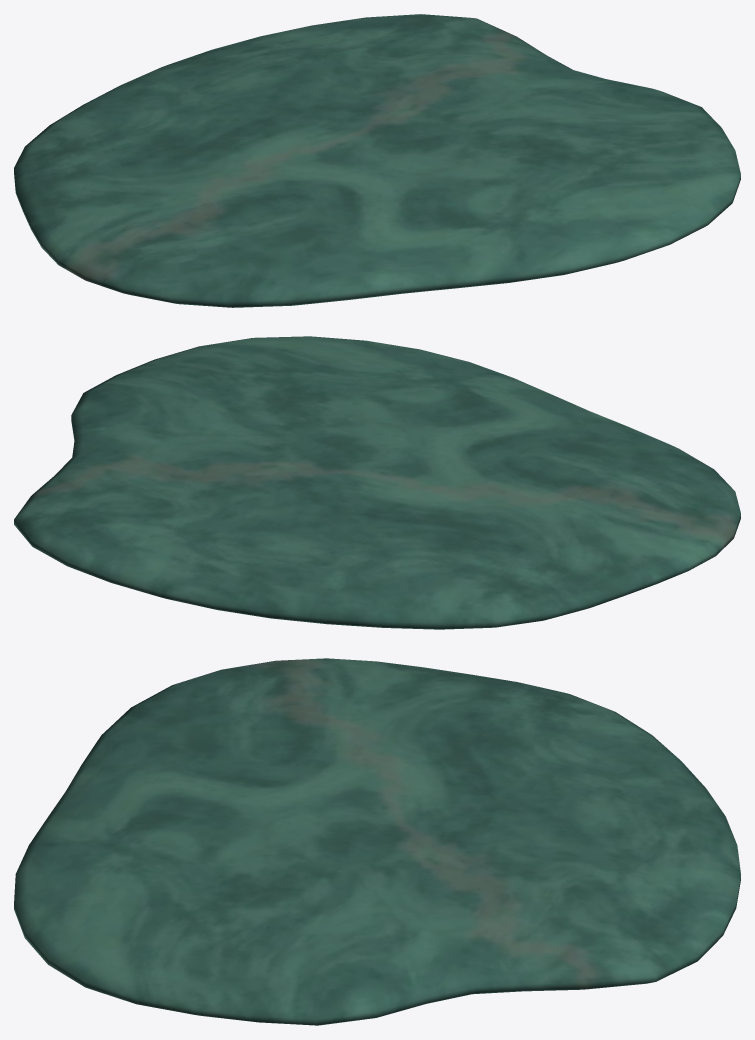
Rendered from jade_river_flat_03.glb.
3 renders of one model, top to bottom at view 1: azimuth 30°, elevation 25°; view 2: azimuth 150°, elevation 25°; view 3: azimuth 270°, elevation 25°, orthographic. The views are drawn at different scales.
Parts seen in each view (by area): view 1: jade_river_flat_03; view 2: jade_river_flat_03; view 3: jade_river_flat_03.
Boxes of the visible parts, bbox=[...] form: jade_river_flat_03: bbox=[14, 14, 740, 307]; jade_river_flat_03: bbox=[14, 336, 740, 629]; jade_river_flat_03: bbox=[14, 658, 740, 1025].
Size of the model in its own units: 0.0883 by 0.00668 by 0.0754.
1 material, 1 textured.
